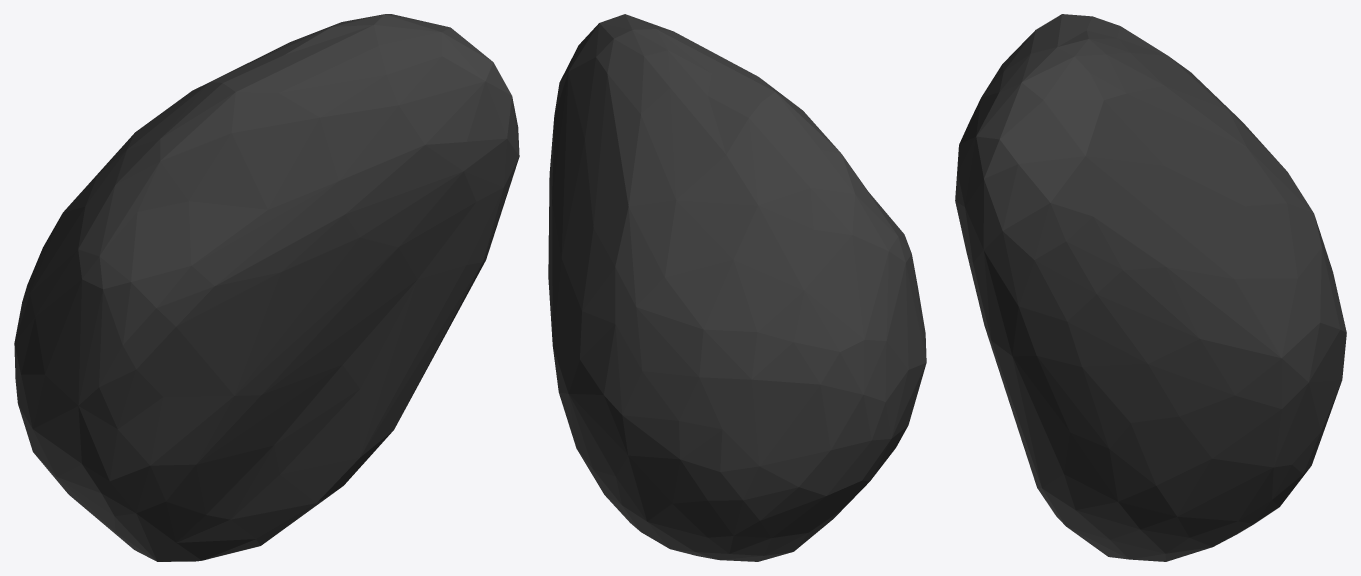
Rendered from nodes_lymph_pancreaticoduodenal_LP.glb.
3 views of the same model, side by side, from view 1: azimuth 30°, elevation 25°; view 2: azimuth 150°, elevation 25°; view 3: azimuth 270°, elevation 25° (orthographic). The views are drawn at different scales.
Parts seen in each view (by area): view 1: nodes_lymph_pancreaticoduodenal_LP; view 2: nodes_lymph_pancreaticoduodenal_LP; view 3: nodes_lymph_pancreaticoduodenal_LP.
Part boxes in pixels (x1,y1,x2,y2): nodes_lymph_pancreaticoduodenal_LP: (14,14,519,561); nodes_lymph_pancreaticoduodenal_LP: (548,14,926,561); nodes_lymph_pancreaticoduodenal_LP: (955,14,1346,561).
Bounding box in the file's own units: 0.000593 × 0.000705 × 0.000439.
Materials: 1 (1 with a texture image).
